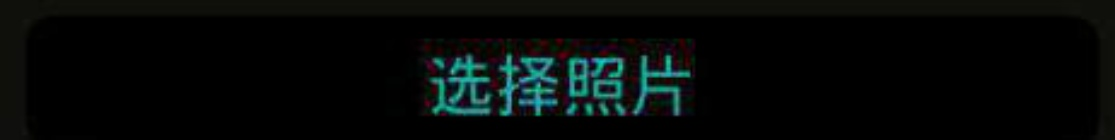Button: (1, 1, 1114, 139)
